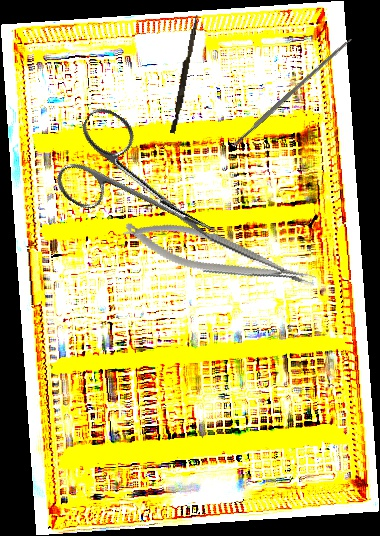Iris Scissors: (45, 101, 243, 277)
Needle Holder: (119, 206, 320, 307)
Pusher: (170, 13, 199, 135)
Scalpel Handle: (230, 36, 354, 148)
